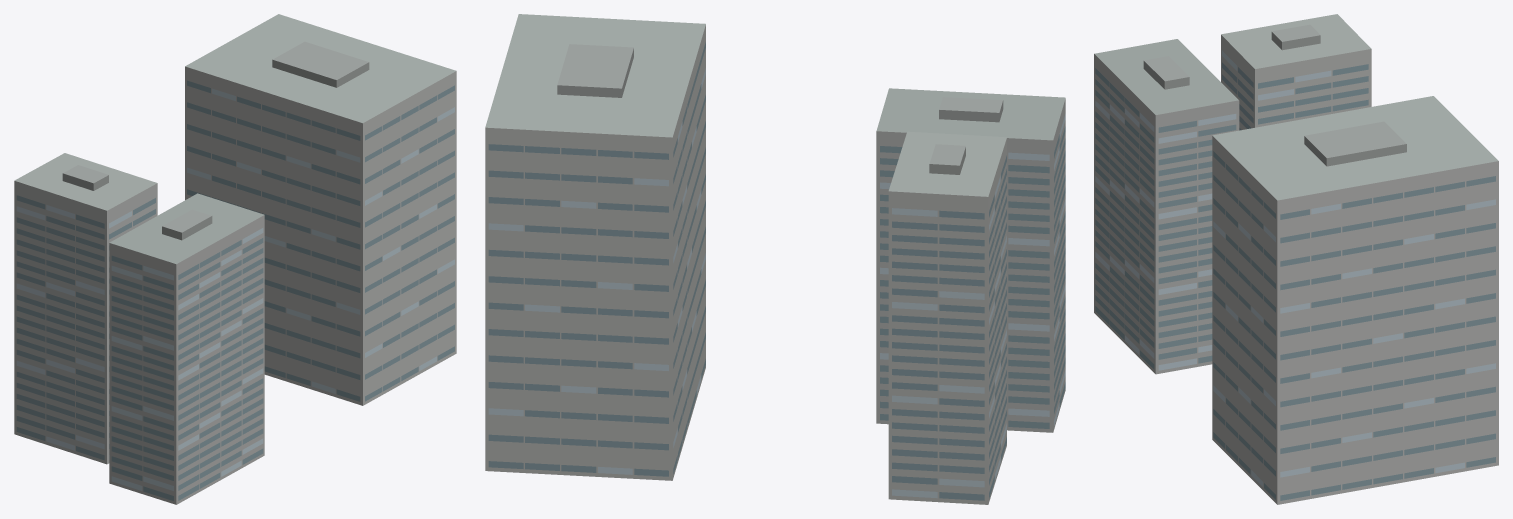
The model's file is apt-a15805501.glb.
The picture shows the model from 3 angles, left to right: view 1: azimuth 30°, elevation 25°; view 2: azimuth 150°, elevation 25°; view 3: azimuth 270°, elevation 25°; orthographic projection. The views are drawn at different scales.
Visible parts, largest first — view 1: apt-a15805501; view 2: apt-a15805501; view 3: apt-a15805501.
Part boxes in pixels (<box>): apt-a15805501: <box>14,14,456,504</box>; apt-a15805501: <box>485,14,1065,504</box>; apt-a15805501: <box>1094,14,1498,504</box>.
Bounding box in the file's own units: 134 × 90 × 106.
